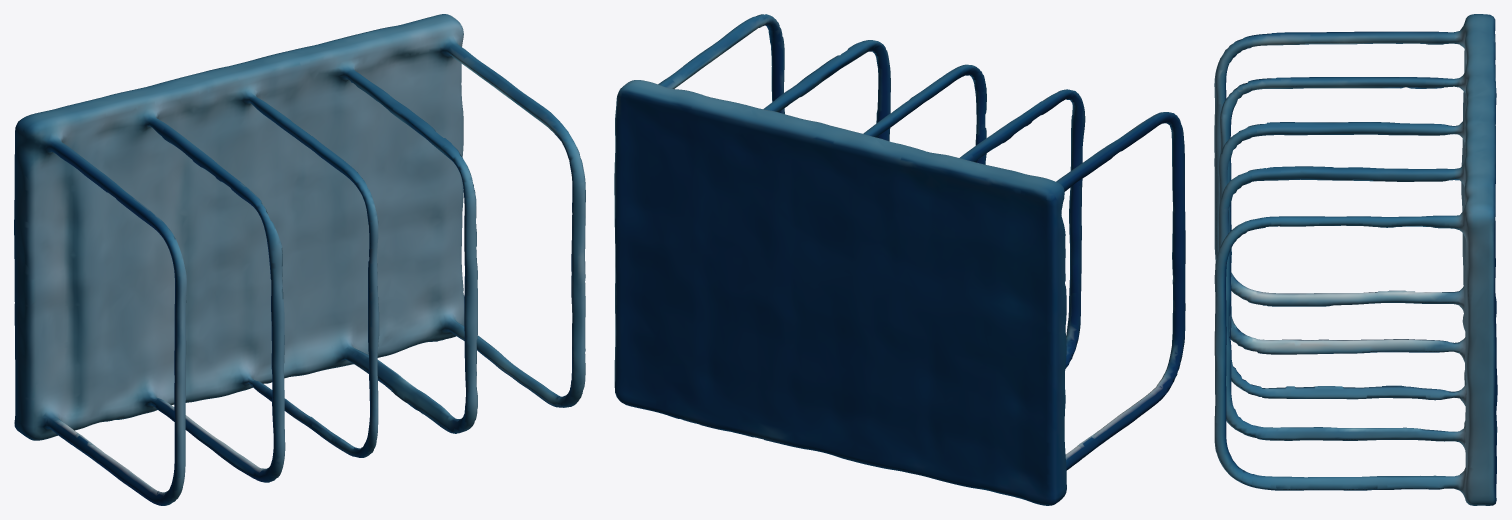
The model's file is sorter.glb.
3 renders of one model, left to right at view 1: azimuth 30°, elevation 25°; view 2: azimuth 150°, elevation 25°; view 3: azimuth 270°, elevation 25°, orthographic. The views are drawn at different scales.
Bounding box in the file's own units: 0.9996 × 0.6924 × 0.5883.
